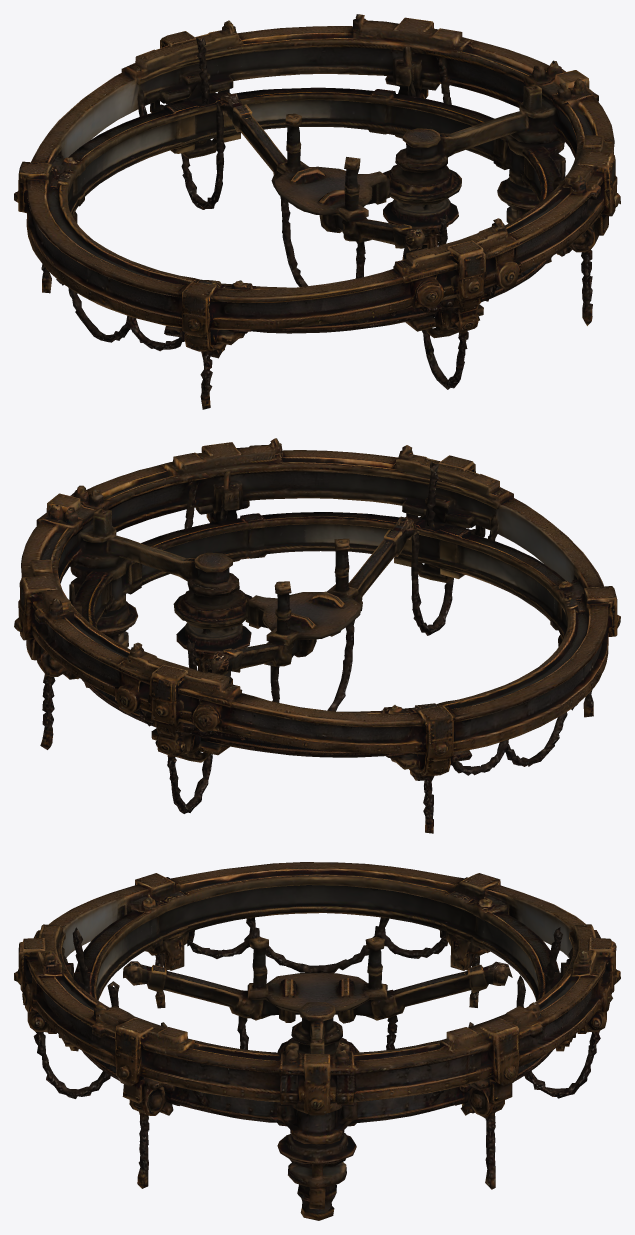
Rendered from raw_ring.glb.
The picture shows the model from 3 angles, top to bottom: view 1: azimuth 30°, elevation 25°; view 2: azimuth 150°, elevation 25°; view 3: azimuth 270°, elevation 25°; orthographic projection.
Parts seen in each view (by area): view 1: tripo_node_0d29c0ce-570a-40b3-872a-484cd894736b; view 2: tripo_node_0d29c0ce-570a-40b3-872a-484cd894736b; view 3: tripo_node_0d29c0ce-570a-40b3-872a-484cd894736b.
Part boxes in pixels (x1=…): tripo_node_0d29c0ce-570a-40b3-872a-484cd894736b: x1=14, y1=14, x2=620, y2=409; tripo_node_0d29c0ce-570a-40b3-872a-484cd894736b: x1=14, y1=438, x2=620, y2=833; tripo_node_0d29c0ce-570a-40b3-872a-484cd894736b: x1=14, y1=862, x2=620, y2=1220.
Size of the model in its own units: 0.9915 by 0.332 by 1.
1 material, 1 textured.
